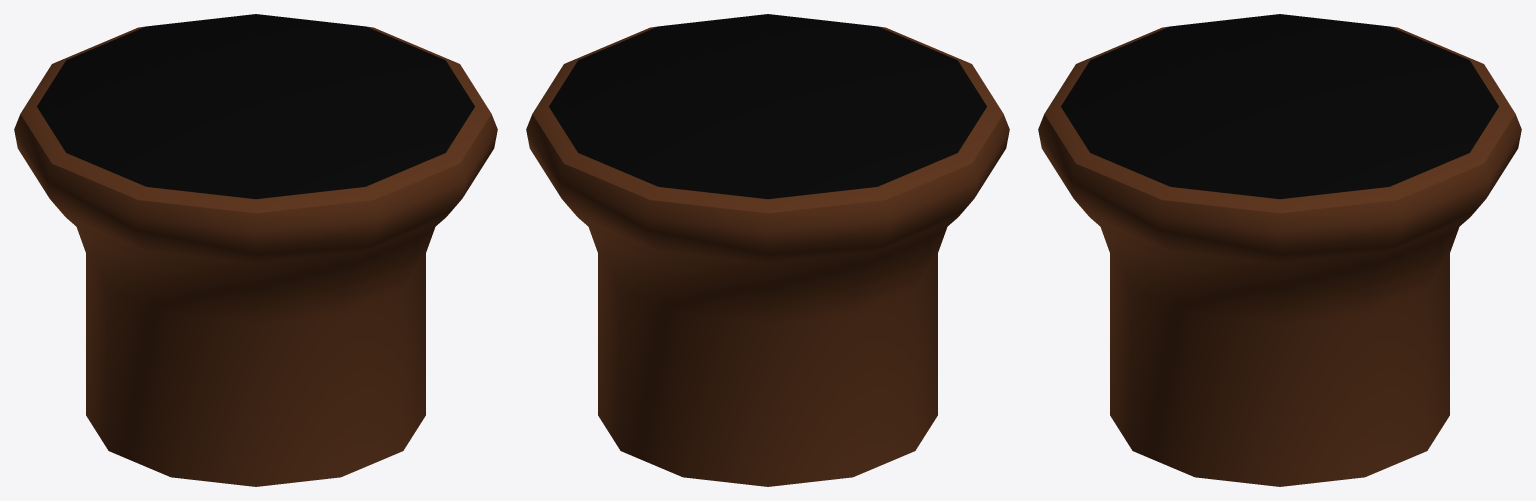
Rendered from Pipe_End.fbx.
The picture shows the model from 3 angles, left to right: view 1: azimuth 30°, elevation 25°; view 2: azimuth 150°, elevation 25°; view 3: azimuth 270°, elevation 25°; orthographic projection.
Visible parts, largest first — view 1: Pipe_End; view 2: Pipe_End; view 3: Pipe_End.
Boxes of the visible parts, left/top/right/bottom form: Pipe_End: left=14, top=14, right=497, bottom=486; Pipe_End: left=526, top=14, right=1009, bottom=486; Pipe_End: left=1038, top=14, right=1521, bottom=486.
Bounding box in the file's own units: 71.06 × 50 × 71.06.
